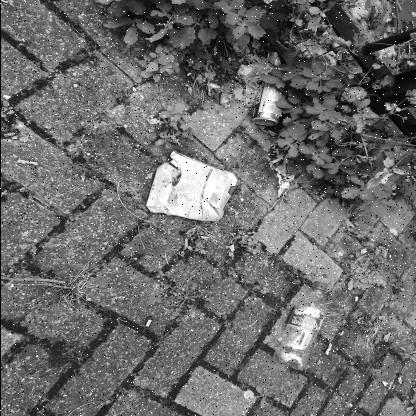cardboard: (145, 150, 237, 223)
metal: (250, 68, 288, 126)
plastic: (271, 281, 328, 370)
